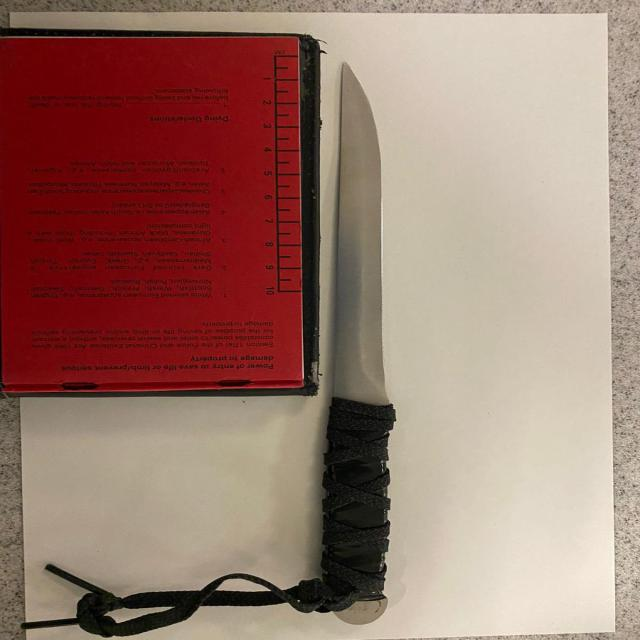Sharp-Object: (327, 63, 389, 625)
